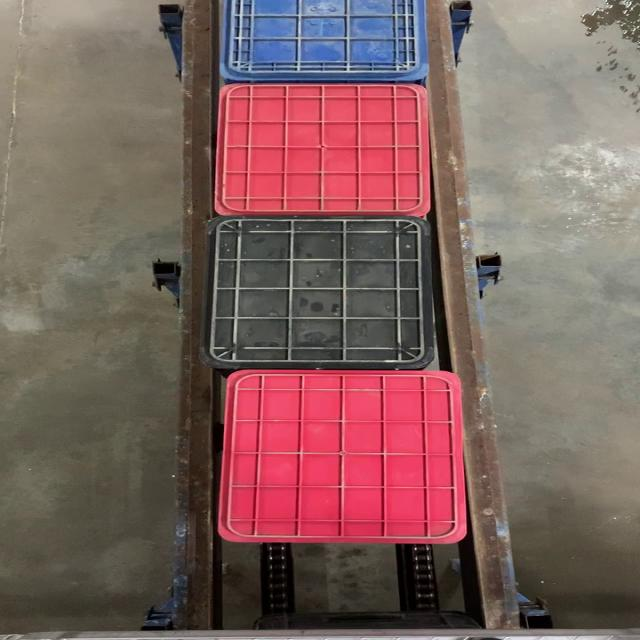Box: (218, 369, 474, 545), (202, 216, 437, 370), (211, 82, 434, 216)
